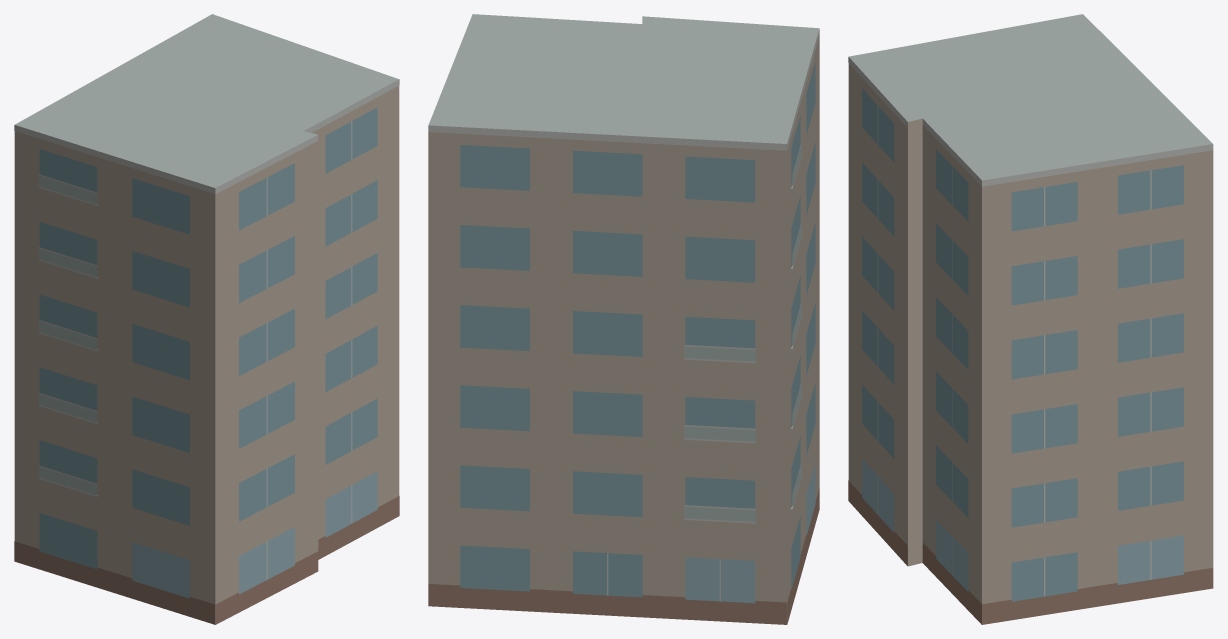
The model's file is survey-upis-32860472.glb.
3 renders of one model, left to right at view 1: azimuth 30°, elevation 25°; view 2: azimuth 150°, elevation 25°; view 3: azimuth 270°, elevation 25°, orthographic. The views are drawn at different scales.
Visible parts, largest first — view 1: survey-upis-32860472.tmp; view 2: survey-upis-32860472.tmp; view 3: survey-upis-32860472.tmp.
Boxes of the visible parts, x1,y1,x2,y2 form: survey-upis-32860472.tmp: [14, 14, 399, 624]; survey-upis-32860472.tmp: [428, 14, 819, 624]; survey-upis-32860472.tmp: [848, 14, 1213, 624].
Size of the model in its own units: 14.07 by 17.5 by 13.03.
